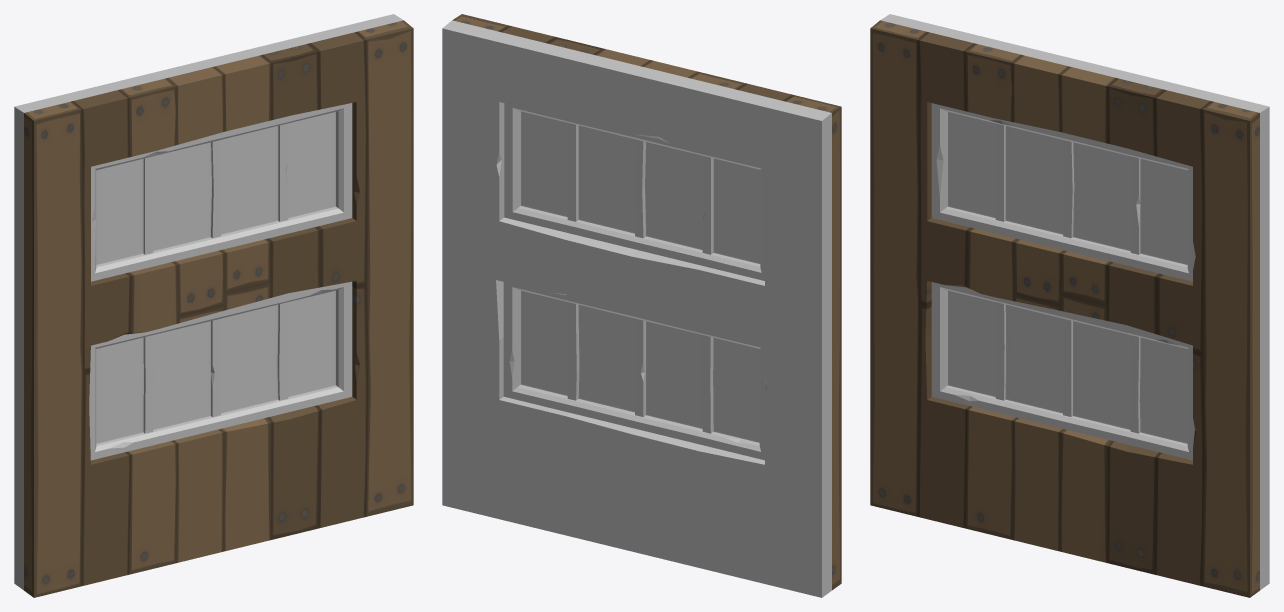
Rendered from SM_Bld_Deco_Wall_Window_06.fbx.
3 views of the same model, side by side, from view 1: azimuth 30°, elevation 25°; view 2: azimuth 150°, elevation 25°; view 3: azimuth 330°, elevation 25° (orthographic).
Parts seen in each view (by area): view 1: SM_Bld_Deco_Wall_Window_06; view 2: SM_Bld_Deco_Wall_Window_06; view 3: SM_Bld_Deco_Wall_Window_06.
Boxes of the visible parts, x1,y1,x2,y2 form: SM_Bld_Deco_Wall_Window_06: (14, 14, 413, 597); SM_Bld_Deco_Wall_Window_06: (442, 14, 841, 597); SM_Bld_Deco_Wall_Window_06: (870, 14, 1269, 597).
Bounding box in the file's own units: 250 × 301 × 22.5.
